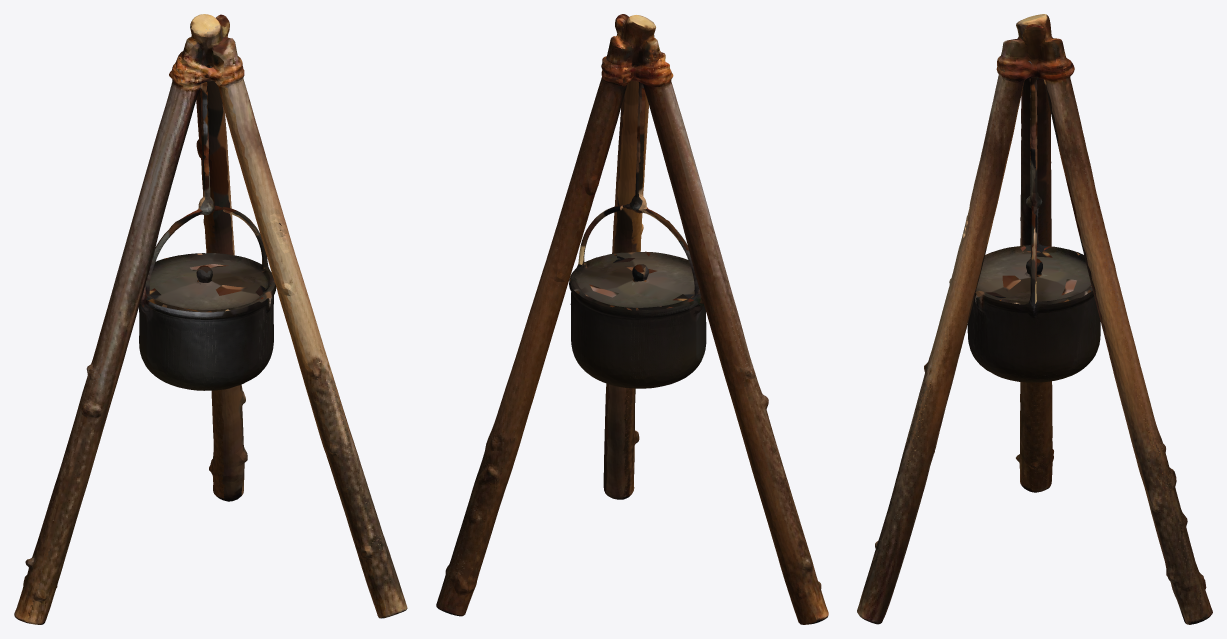
File: traveler_env_coast_autumn_camp_cooking_tripod_00001_.glb
3 renders of one model, left to right at view 1: azimuth 30°, elevation 25°; view 2: azimuth 150°, elevation 25°; view 3: azimuth 270°, elevation 25°, orthographic.
Parts seen in each view (by area): view 1: temp_mesh.ply; view 2: temp_mesh.ply; view 3: temp_mesh.ply.
Boxes of the visible parts, x1=… form: temp_mesh.ply: x1=14, y1=14, x2=407, y2=624; temp_mesh.ply: x1=436, y1=14, x2=828, y2=624; temp_mesh.ply: x1=857, y1=14, x2=1212, y2=624.
Size of the model in its own units: 1.13 by 1.97 by 1.14.
1 material, 1 textured.
